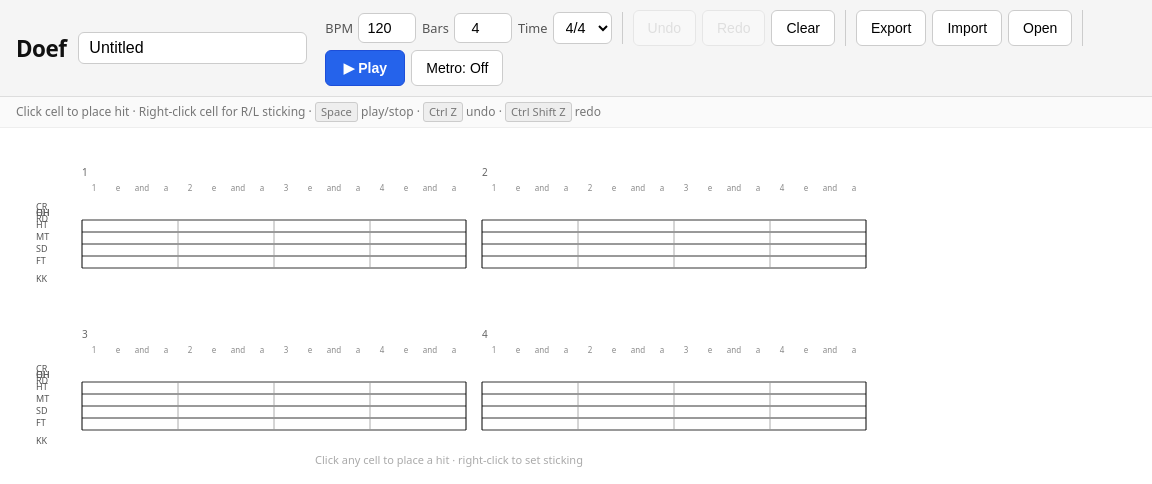
Test: App › open sheet list › shows saved sheet names after clicking Open
The width and height of the screenshot is (1152, 484).
Click the button with aria-label "Open sheet" at (1040, 28), box [1008,10,1072,46]
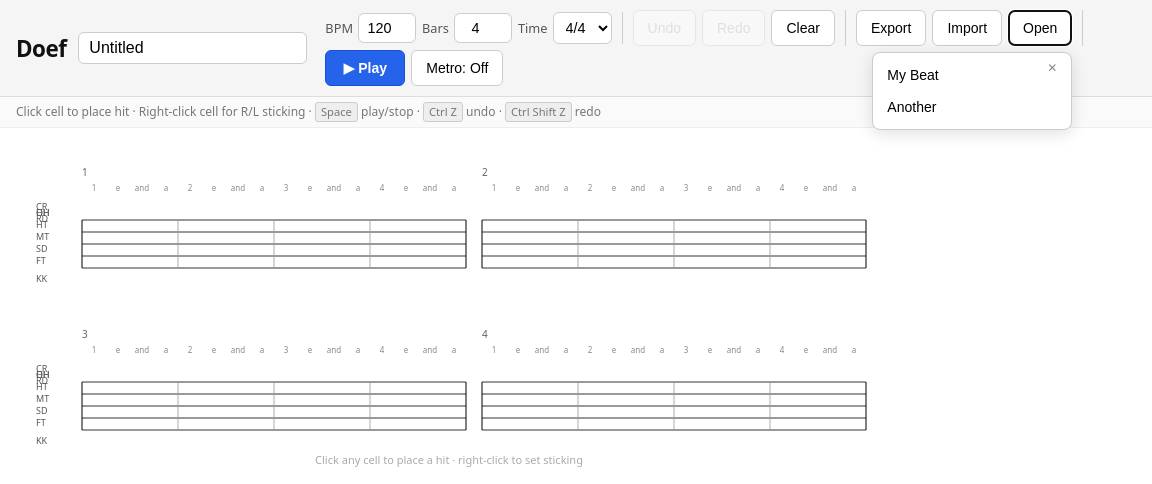
expect the button "My Beat" is shown: met, box [873,59,1071,91]
expect the button "Another" is shown: met, box [873,91,1071,123]
